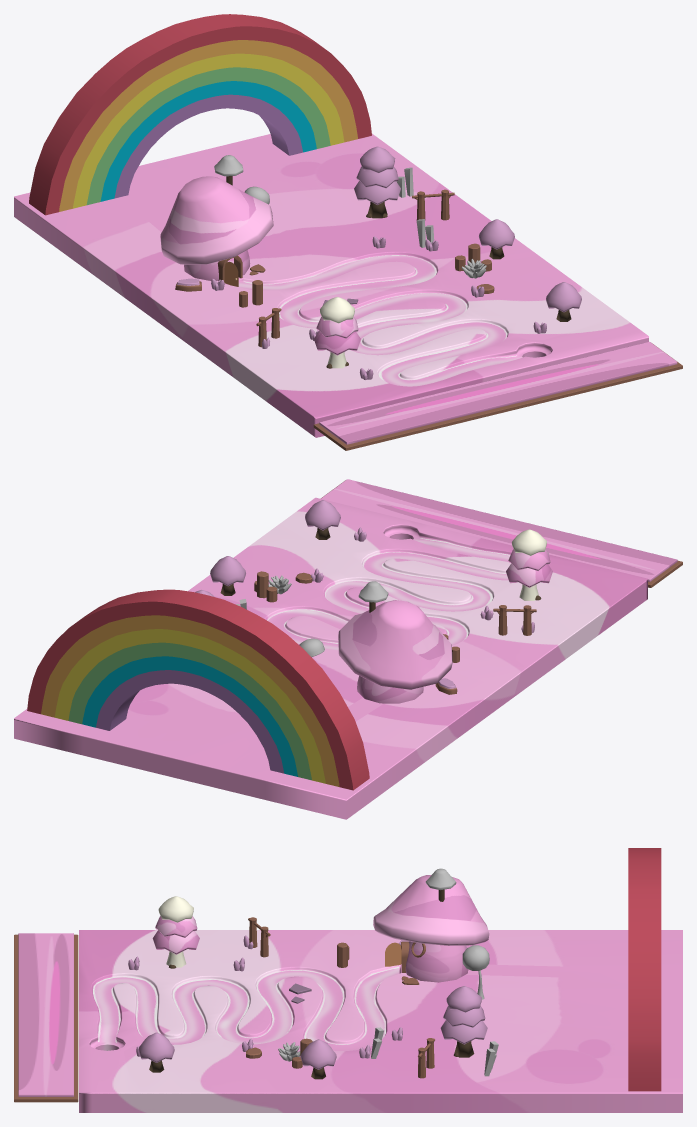
Rendered from Pink_Map.fbx.
3 renders of one model, top to bottom at view 1: azimuth 30°, elevation 25°; view 2: azimuth 150°, elevation 25°; view 3: azimuth 270°, elevation 25°, orthographic.
Visible parts, largest first — view 1: polySurface60, pPipe1, polySurface9, polySurface122, polySurface16, pSphere27, polySurface30, polySurface121, polySurface135, polySurface126, polySurface133; view 2: polySurface60, pPipe1, polySurface9, polySurface122, polySurface126, polySurface121, polySurface30, polySurface135, polySurface133, polySurface134; view 3: polySurface60, polySurface9, pPipe1, polySurface122, pSphere27, polySurface126, polySurface16, polySurface121, polySurface30, polySurface135, pCylinder6, polySurface133 (+2 smaller).
Boxes of the visible parts, x1,y1,x2,y2 form: polySurface60: (14,133,648,437); pPipe1: (29,14,371,215); polySurface9: (319,341,677,444); polySurface122: (160,176,273,264); polySurface16: (313,343,682,450); pSphere27: (354,146,400,218); polySurface30: (546,282,581,321); polySurface121: (479,219,514,259); polySurface135: (314,331,360,355); polySurface126: (184,250,250,280); polySurface133: (320,297,354,323); polySurface60: (14,497,647,819); pPipe1: (27,589,369,790); polySurface9: (321,479,677,581); polySurface122: (338,600,452,689); polySurface126: (357,675,423,703); polySurface121: (210,556,245,595); polySurface30: (305,500,340,539); polySurface135: (506,563,552,587); polySurface133: (512,529,546,555); polySurface134: (508,549,550,570); polySurface60: (79,930,682,1112); polySurface9: (18,933,73,1096); pPipe1: (628,848,661,1091); polySurface122: (373,875,489,945); pSphere27: (440,986,487,1057); polySurface126: (405,941,468,982); polySurface16: (14,934,78,1102); polySurface121: (300,1039,336,1079); polySurface30: (138,1032,174,1072); polySurface135: (152,930,199,954); pCylinder6: (462,945,489,999); polySurface133: (158,896,193,922).
Bounding box in the file's own units: 1669 × 778 × 2866.
